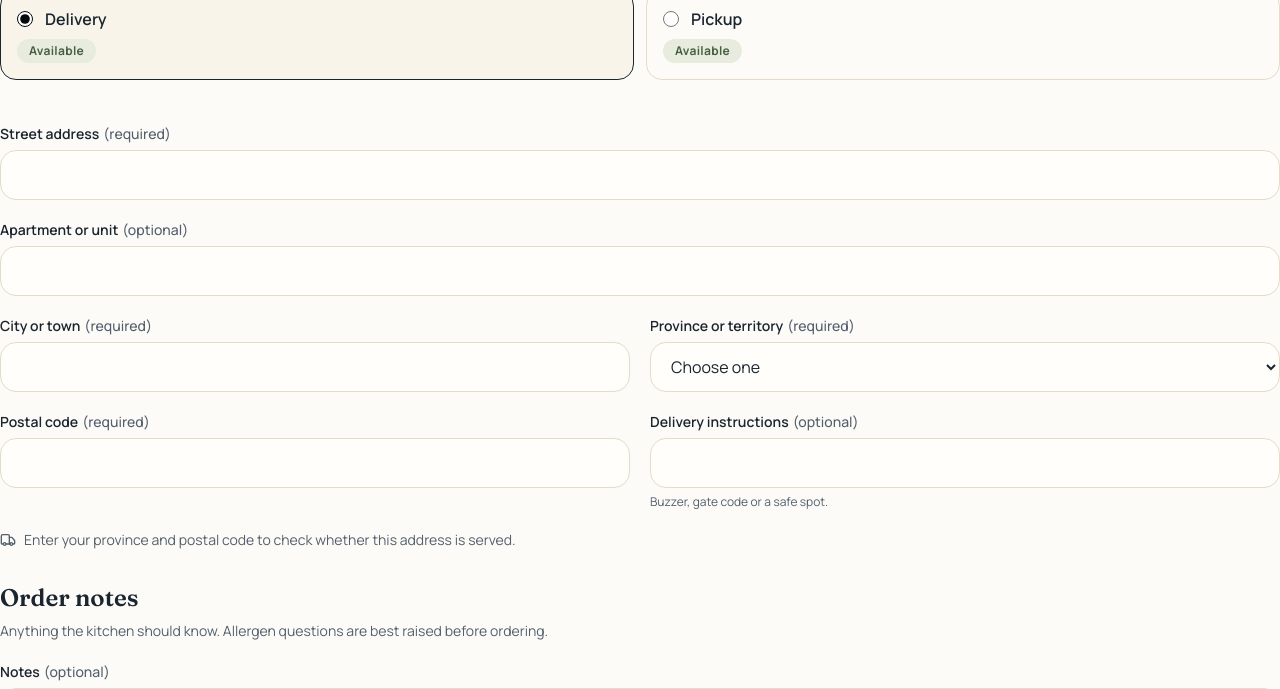
Scenario: CustomerForm: fulfilment › matches the typed address against the configured service area
(page scrolled)
Type "M5H 2N2" into the field labelled "Postal code(required)".
click(315, 462); type("M5H 2N2")  # box [0, 438, 630, 488]
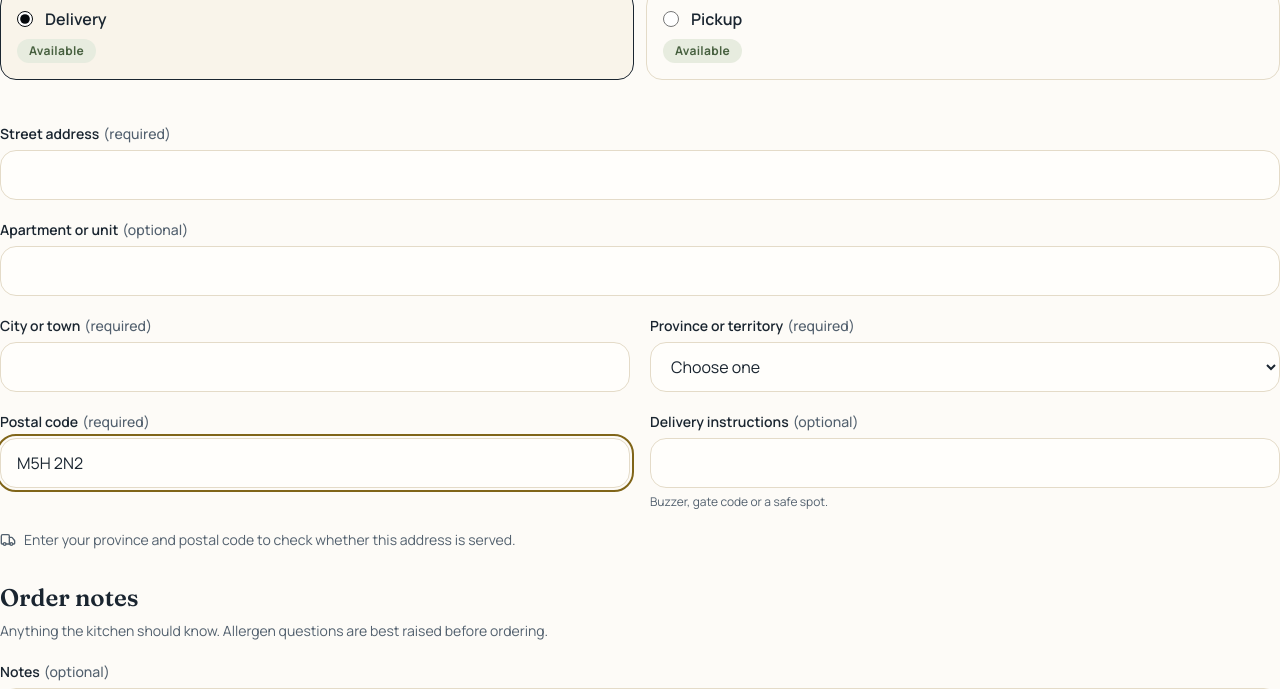
Select "Ontario" in the dropdown labelled "Province or territory(required)" at (965, 366), box [650, 342, 1279, 392]
(page scrolled)
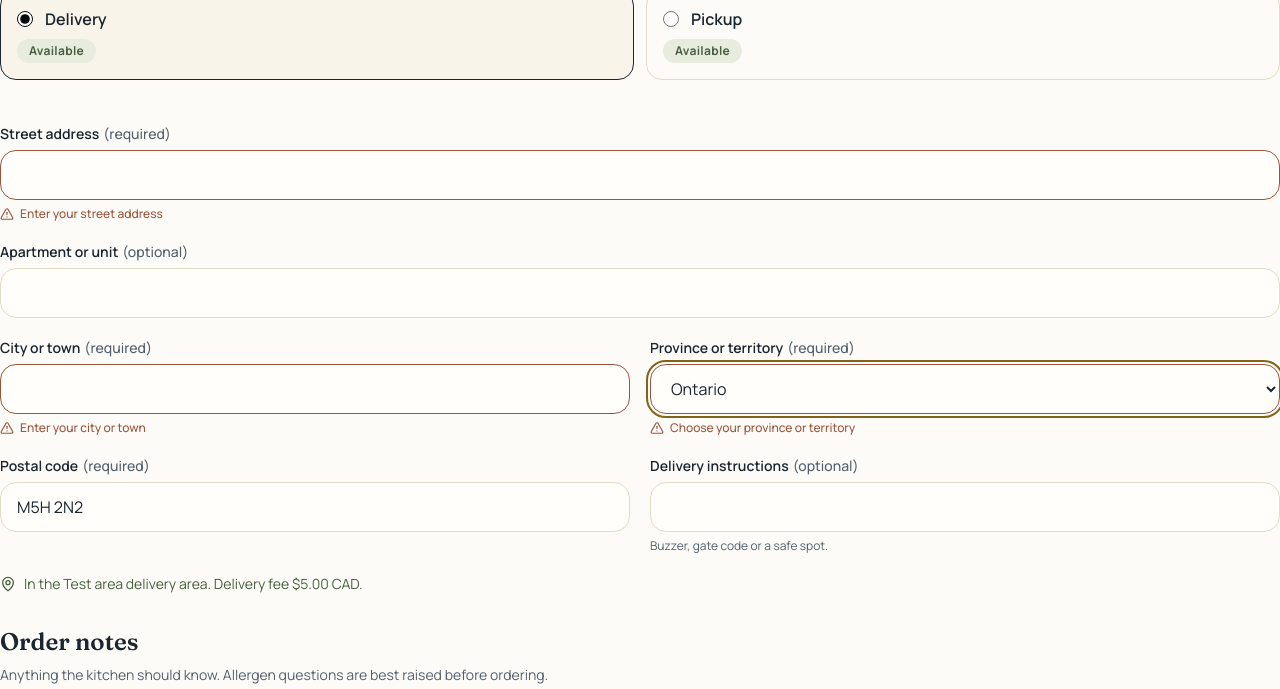
Expected: the text "In the Test area delivery area. Delivery fee $5.00 CAD." is shown, [0, 574, 363, 592]
